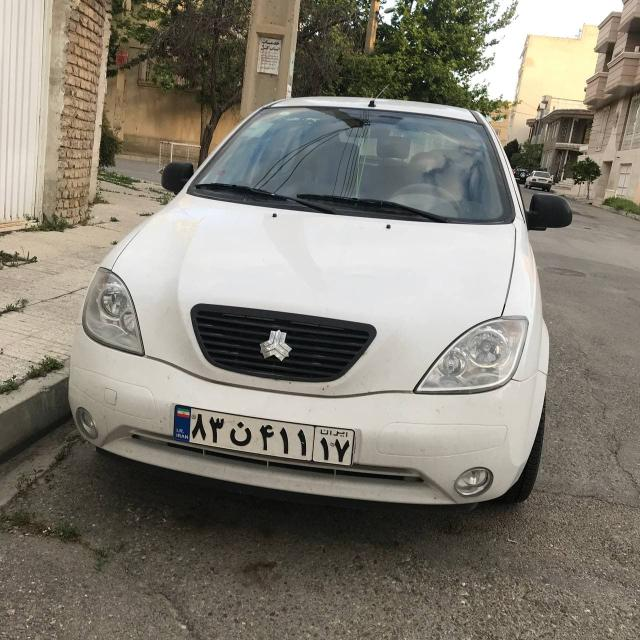Plates: (171, 405, 356, 465)
